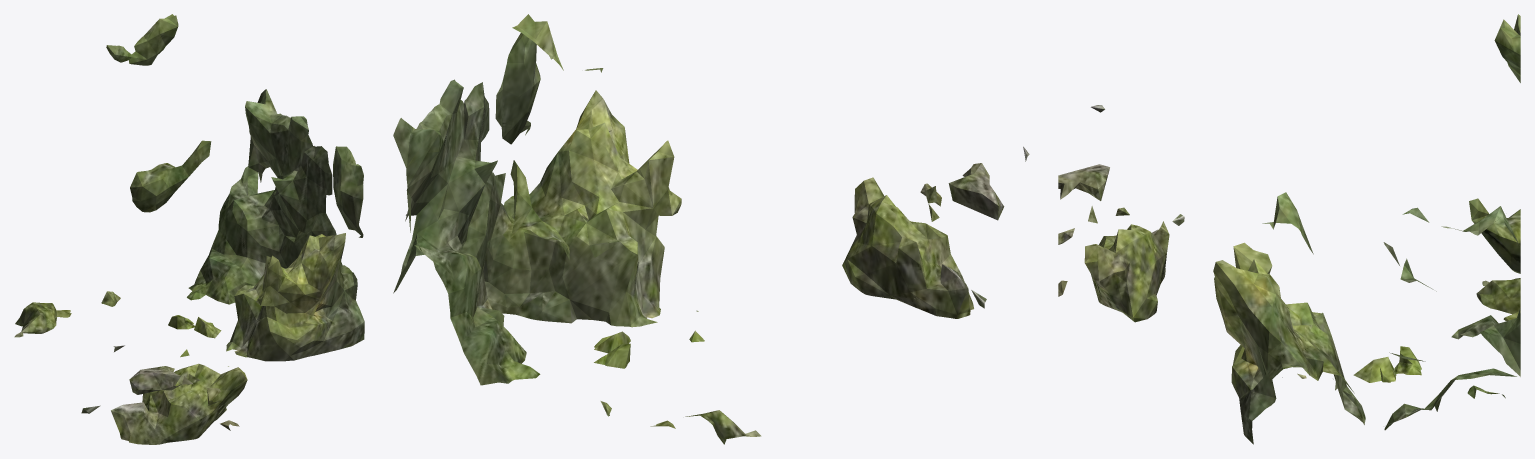
The picture shows the model from 3 angles, left to right: view 1: azimuth 30°, elevation 25°; view 2: azimuth 150°, elevation 25°; view 3: azimuth 270°, elevation 25°; orthographic projection. The views are drawn at different scales.
Size of the model in its own units: 5.9 by 5.05 by 5.9.
Materials: 2 (2 with a texture image).
